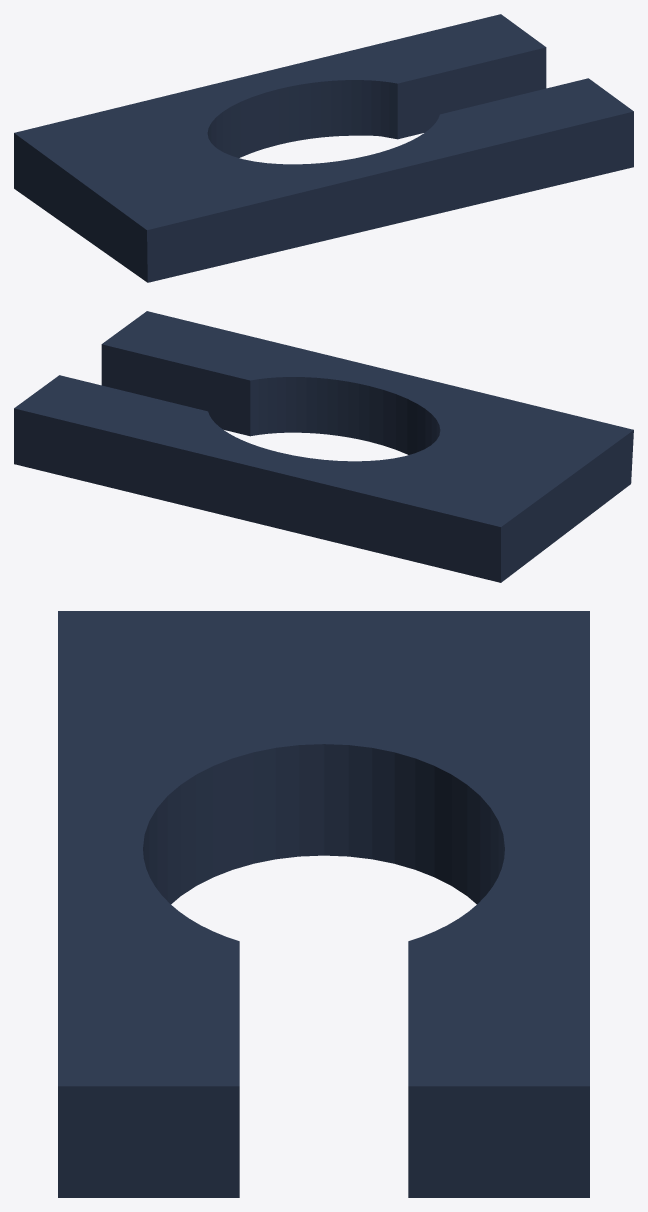
Rendered from cala-3D-transparent(bleu-metal).glb.
The picture shows the model from 3 angles, top to bottom: view 1: azimuth 30°, elevation 25°; view 2: azimuth 150°, elevation 25°; view 3: azimuth 270°, elevation 25°; orthographic projection. The views are drawn at different scales.
Parts seen in each view (by area): view 1: Curve; view 2: Curve; view 3: Curve.
Part boxes in pixels (x1,y1,x2,y2): Curve: (14,14,633,282); Curve: (14,311,633,582); Curve: (58,611,589,1197).
Size of the model in its own units: 0.0459 by 0.00502 by 0.0217.
